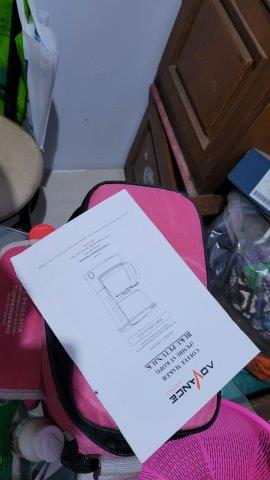kertas: (11, 187, 262, 462)
